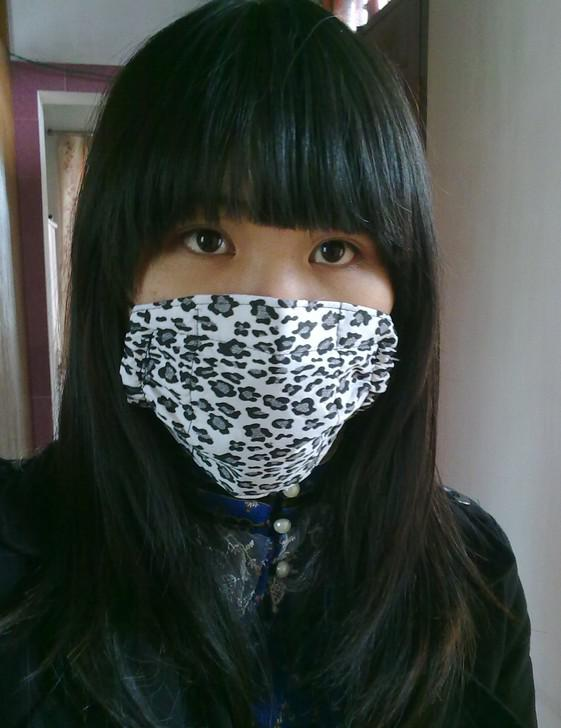OK: (129, 180, 429, 496)
